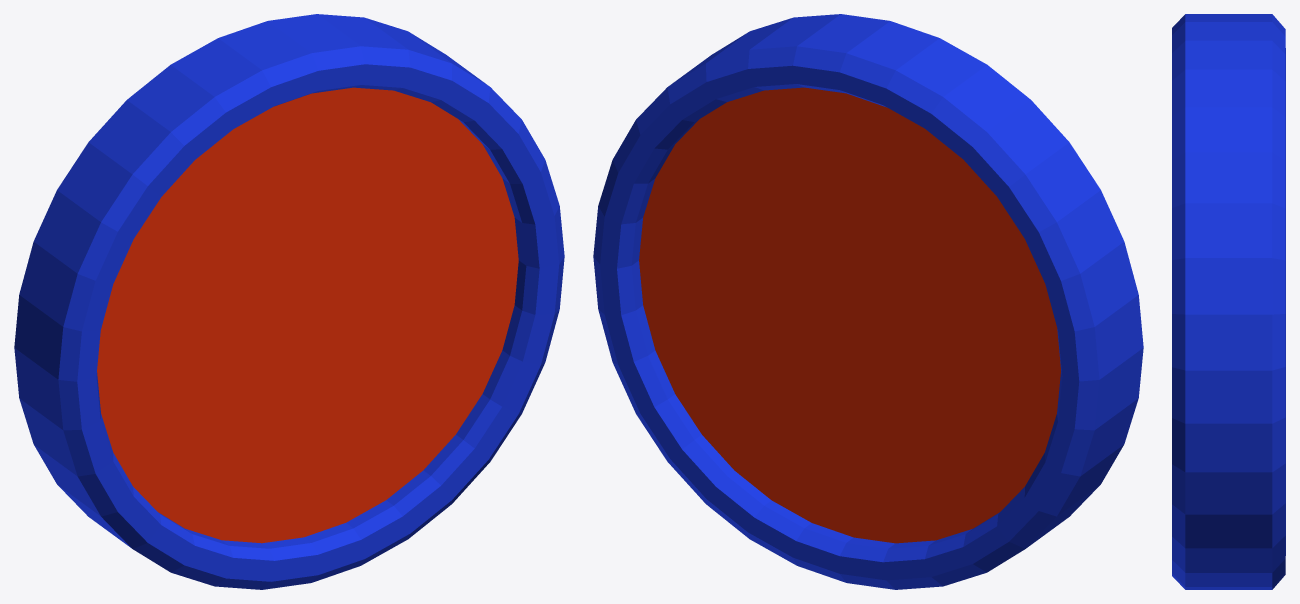
File: coin_new7.fbx
3 renders of one model, left to right at view 1: azimuth 30°, elevation 25°; view 2: azimuth 150°, elevation 25°; view 3: azimuth 270°, elevation 25°, orthographic.
Parts seen in each view (by area): view 1: Cylinder.004; view 2: Cylinder.004; view 3: Cylinder.004.
Boxes of the visible parts, x1,y1,x2,y2 form: Cylinder.004: (14,14,564,589); Cylinder.004: (593,14,1143,589); Cylinder.004: (1172,14,1285,589).
Bounding box in the file's own units: 600 × 600 × 118.
